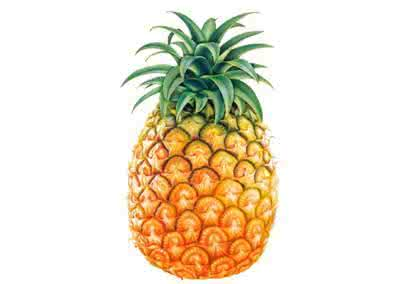pineapple: (123, 6, 285, 281)
